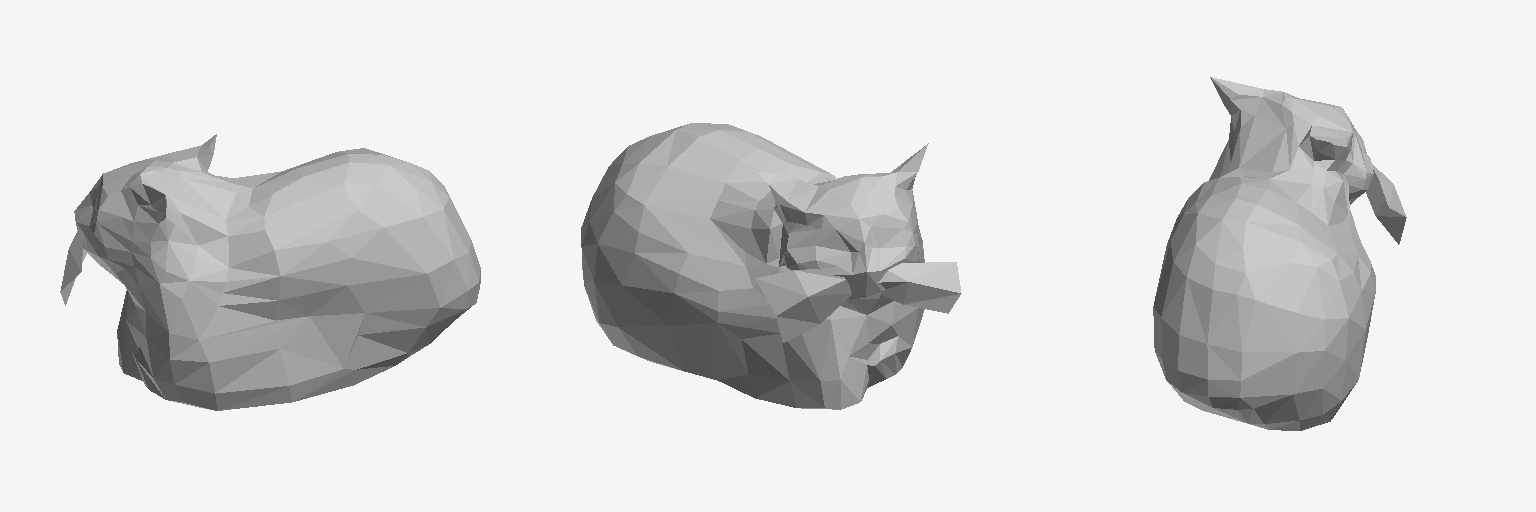
File: maxwell.obj
The picture shows the model from 3 angles: view 1: azimuth 30°, elevation 25°; view 2: azimuth 150°, elevation 25°; view 3: azimuth 270°, elevation 25°; orthographic projection.
Parts seen in each view (by area): view 1: dingus_whiskers_0; view 2: dingus_whiskers_0; view 3: dingus_whiskers_0.
Boxes of the visible parts, <box> form: dingus_whiskers_0: <box>60,134,480,410</box>; dingus_whiskers_0: <box>581,123,961,409</box>; dingus_whiskers_0: <box>1153,77,1406,430</box>.
Size of the model in its own units: 2.17 by 1.26 by 1.23.